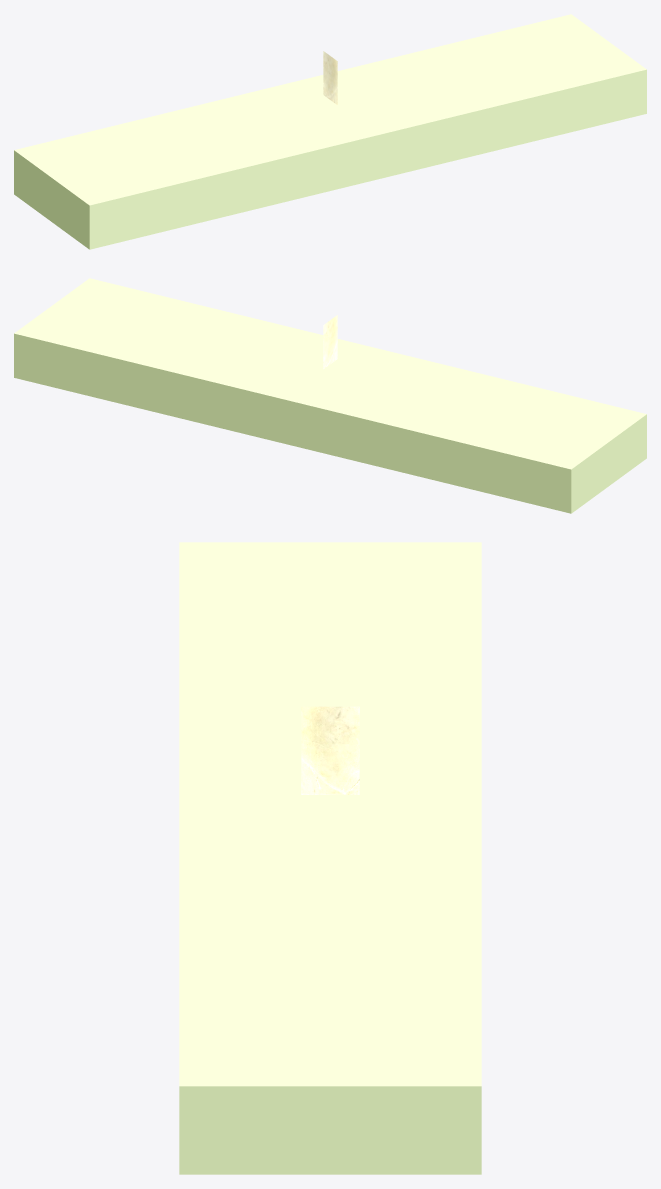
The picture shows the model from 3 angles, top to bottom: view 1: azimuth 30°, elevation 25°; view 2: azimuth 150°, elevation 25°; view 3: azimuth 270°, elevation 25°; orthographic projection. The views are drawn at different scales.
Parts seen in each view (by area): view 1: Box, normal; view 2: Box, normal; view 3: Box, normal.
Part boxes in pixels (x1=…): Box: x1=14, y1=14, x2=646, y2=249; normal: x1=323, y1=51, x2=337, y2=104; Box: x1=14, y1=278, x2=646, y2=513; normal: x1=323, y1=315, x2=337, y2=368; Box: x1=179, y1=542, x2=481, y2=1174; normal: x1=301, y1=706, x2=359, y2=794.
Size of the model in its own units: 13.19 by 2.22 by 3.1.
6 materials, 5 textured.
